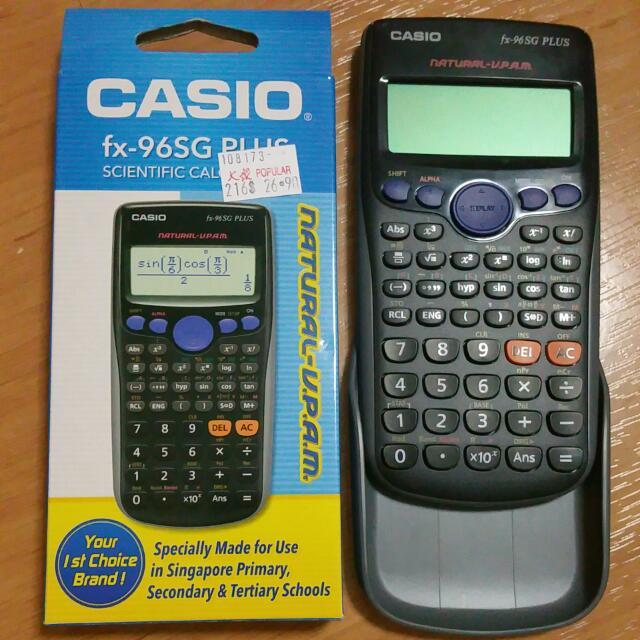Calculator: (348, 14, 607, 520), (108, 199, 271, 535)
